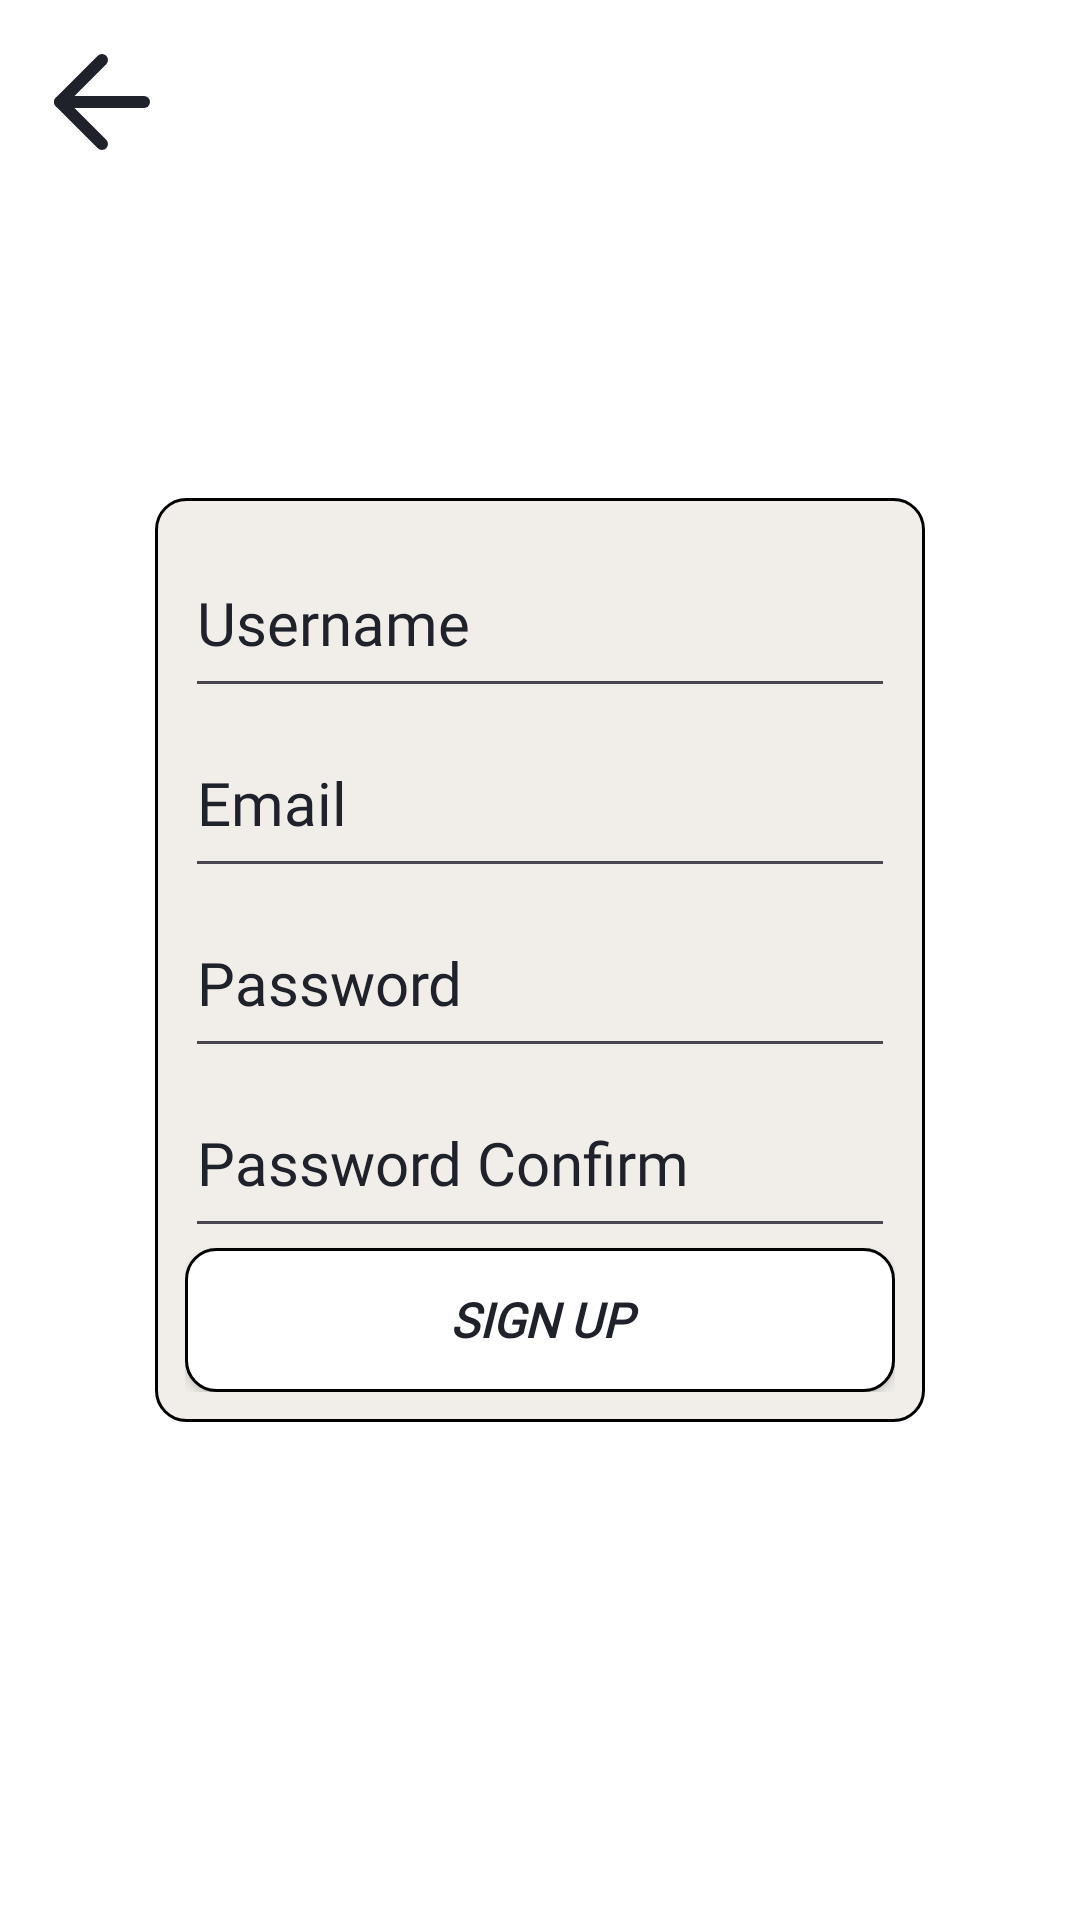

Icons on this 1080px x 1920px Android screen, each with the point to tap as (x=x, y=y):
arrow left: (x=102, y=102)
